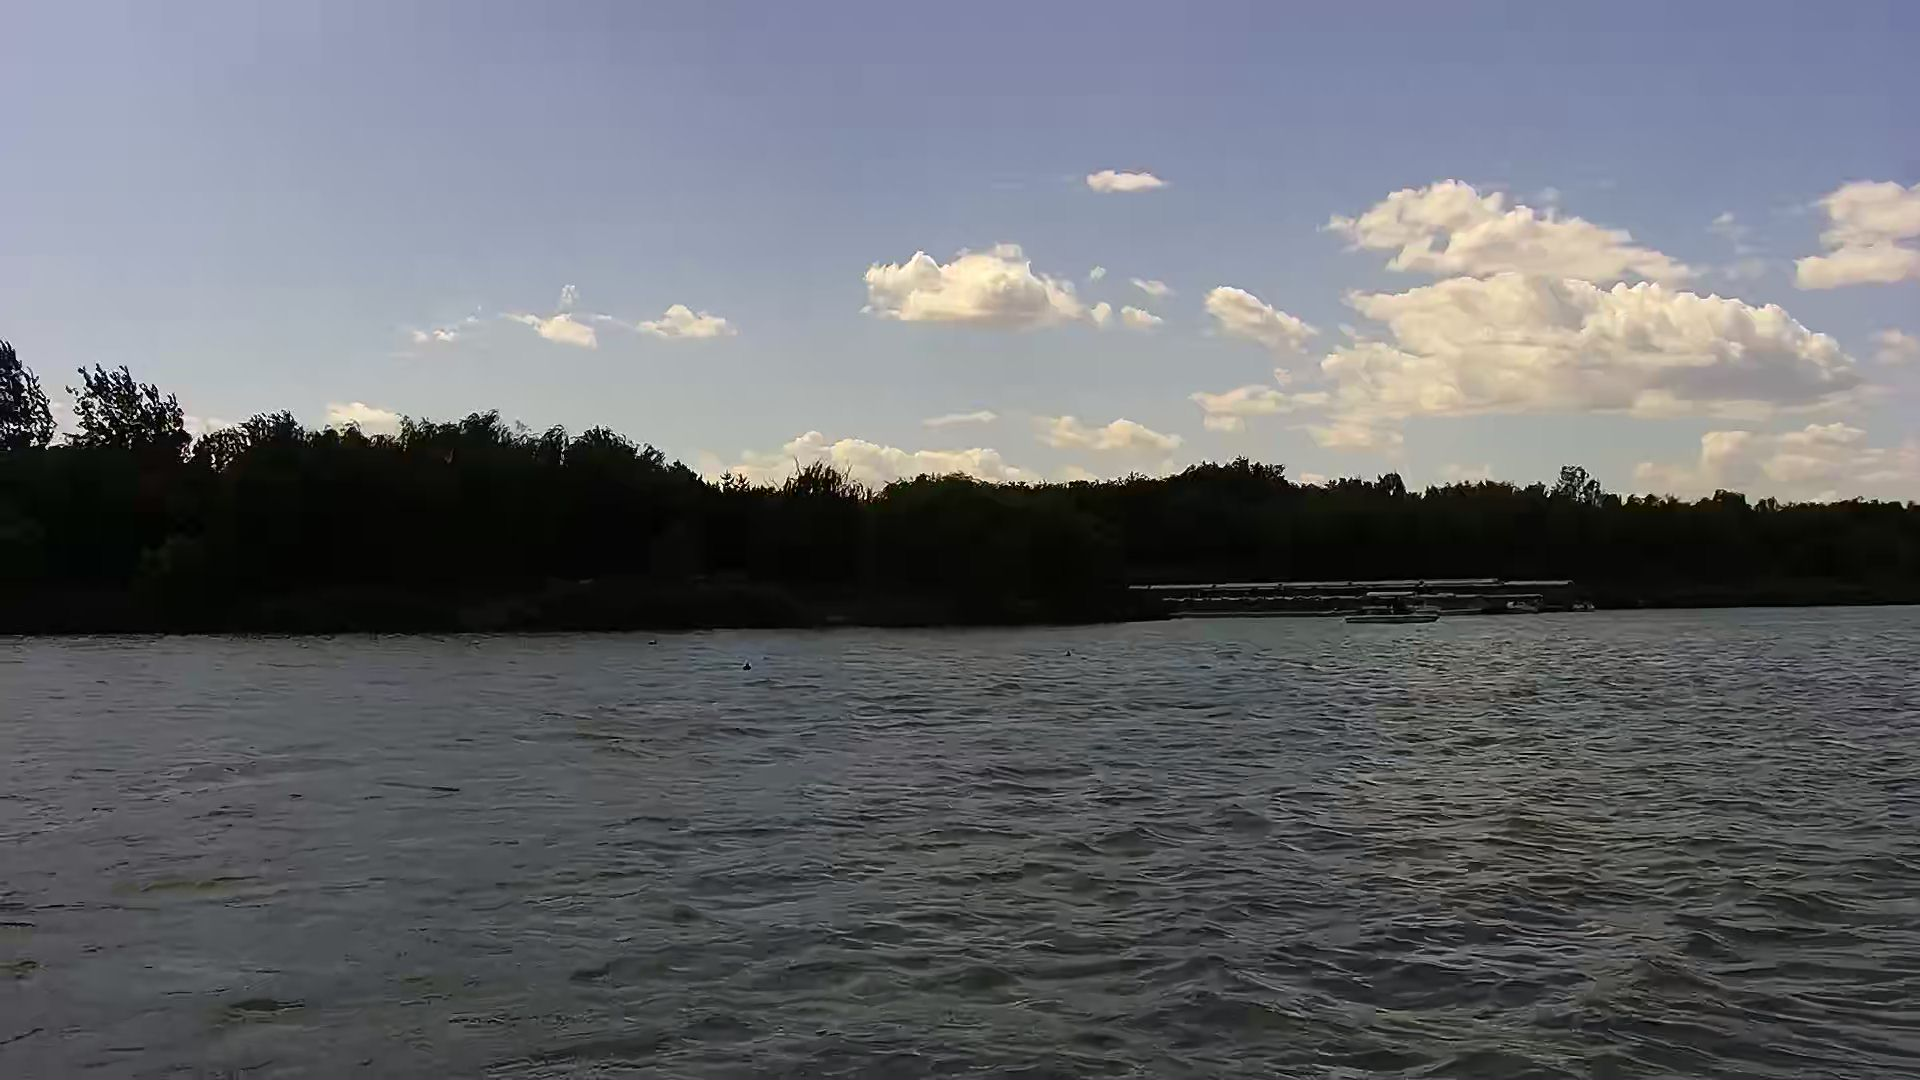boat: (1337, 588, 1443, 632)
harbor: (1124, 578, 1582, 621)
